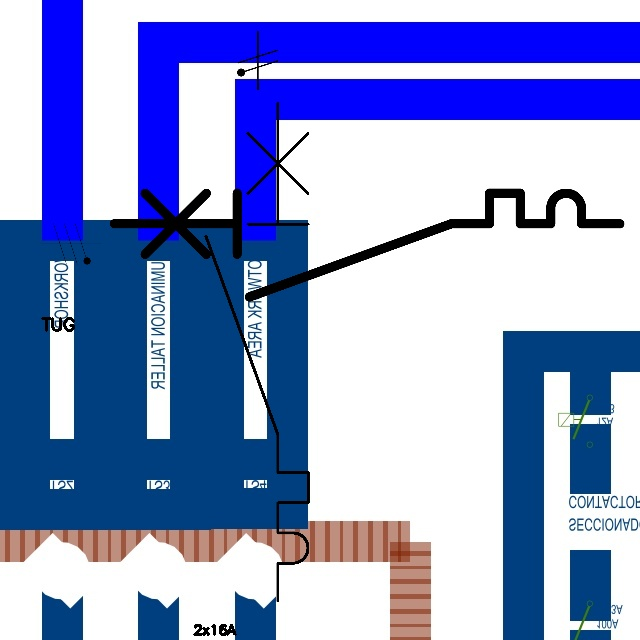interruptor_termomagnetico: (101, 180, 633, 310), (193, 90, 321, 613)
